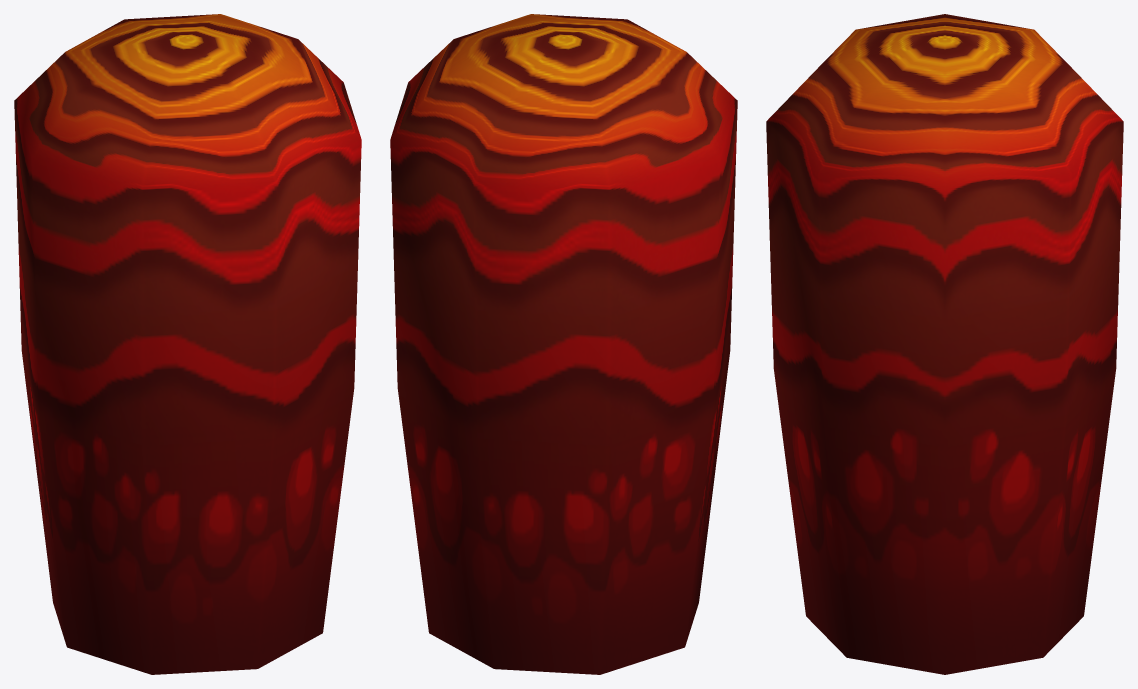
Rendered from Coral_29d.FBX.
3 views of the same model, side by side, from view 1: azimuth 30°, elevation 25°; view 2: azimuth 150°, elevation 25°; view 3: azimuth 270°, elevation 25° (orthographic).
Parts seen in each view (by area): view 1: Coral_29d; view 2: Coral_29d; view 3: Coral_29d.
Boxes of the visible parts, bbox=[...] form: Coral_29d: bbox=[14, 14, 361, 674]; Coral_29d: bbox=[390, 14, 737, 674]; Coral_29d: bbox=[766, 14, 1123, 674].
Bounding box in the file's own units: 30.75 × 54.76 × 30.75.
